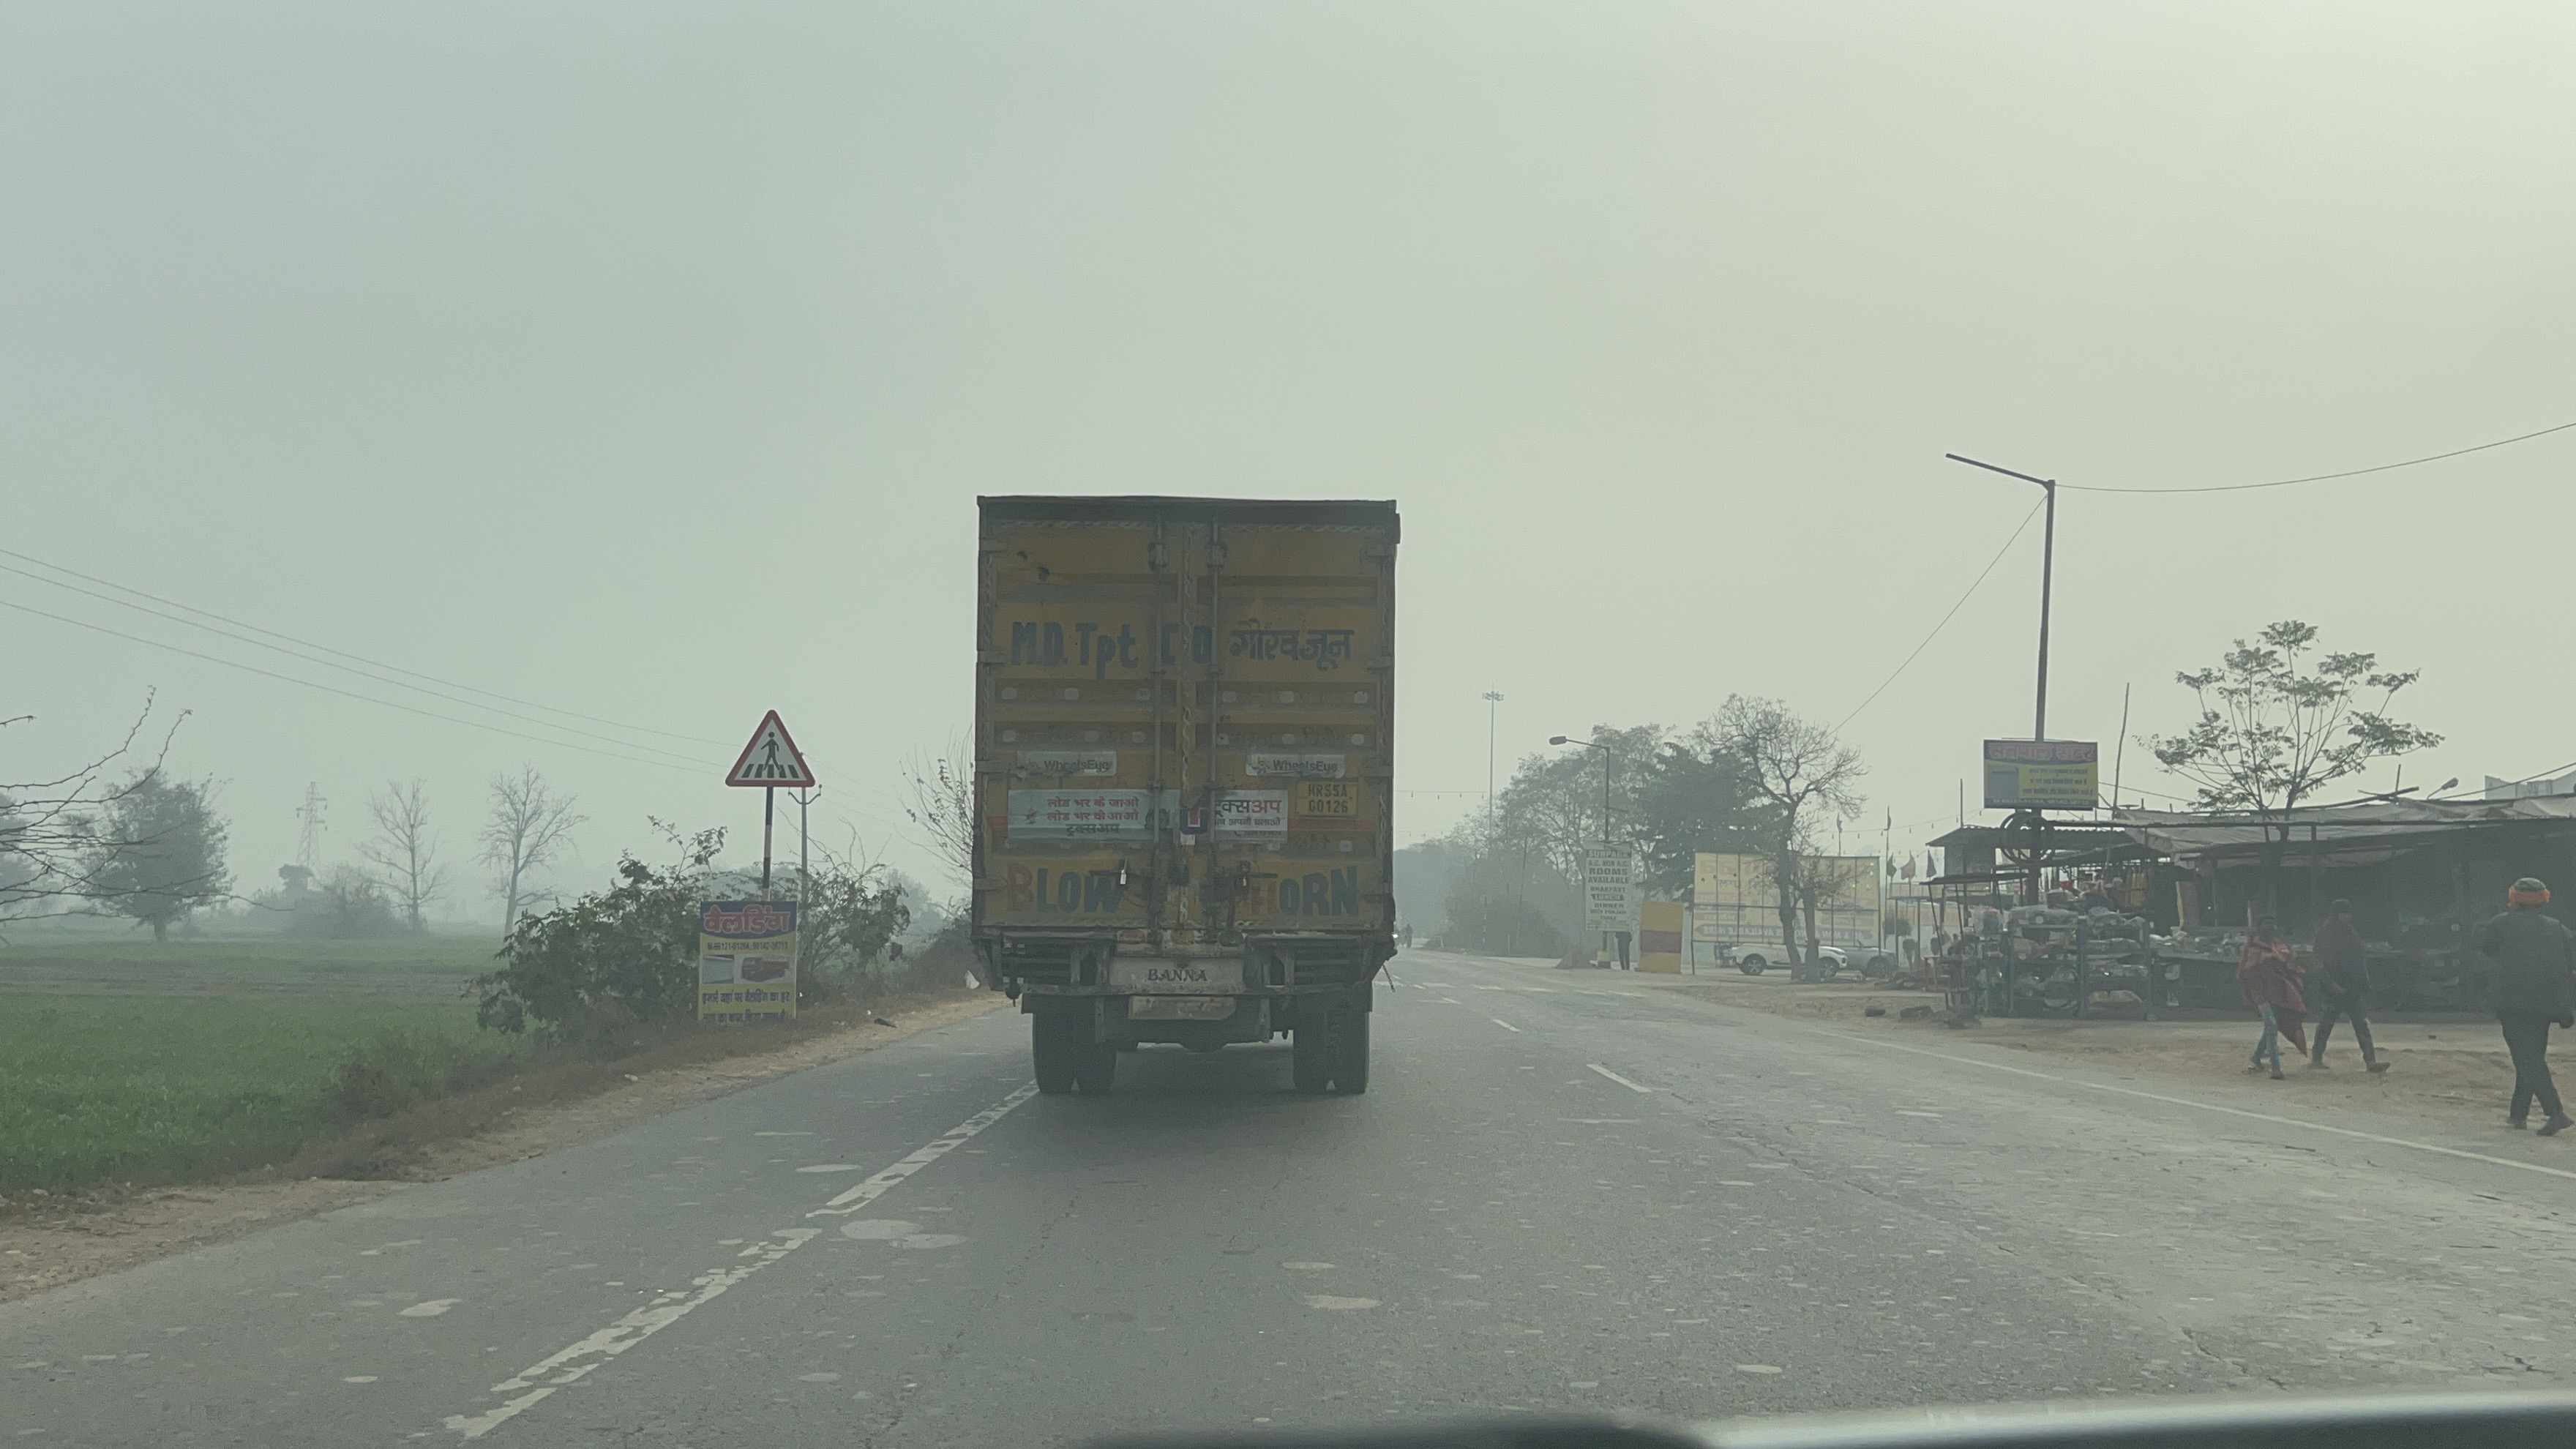Warning: (702, 692, 839, 812)
